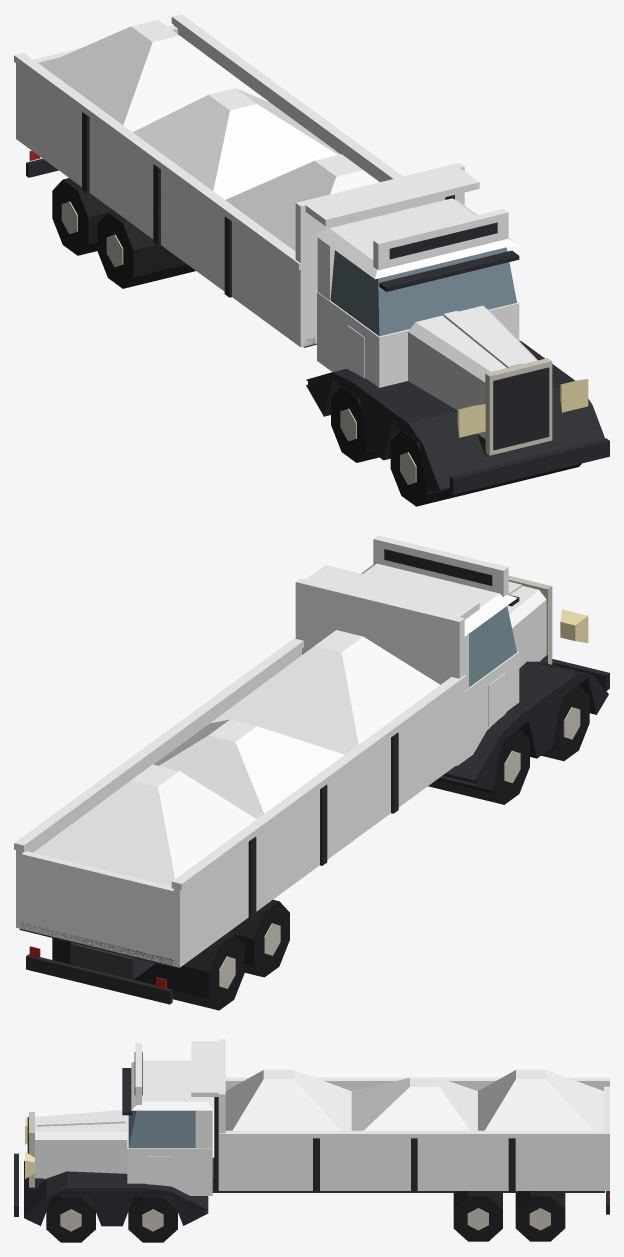
Rendered from heavy_tipper.glb.
3 views of the same model, one above another, from view 1: azimuth 30°, elevation 25°; view 2: azimuth 150°, elevation 25°; view 3: azimuth 270°, elevation 25° (orthographic). The views are drawn at different scales.
Visible parts, largest first — view 1: model; view 2: model; view 3: model.
Part boxes in pixels (left/top/right/bottom): model: left=14, top=14, right=609, bottom=506; model: left=14, top=535, right=609, bottom=1010; model: left=14, top=1039, right=609, bottom=1242.
Bounding box in the file's own units: 2.7 × 3.34 × 12.
